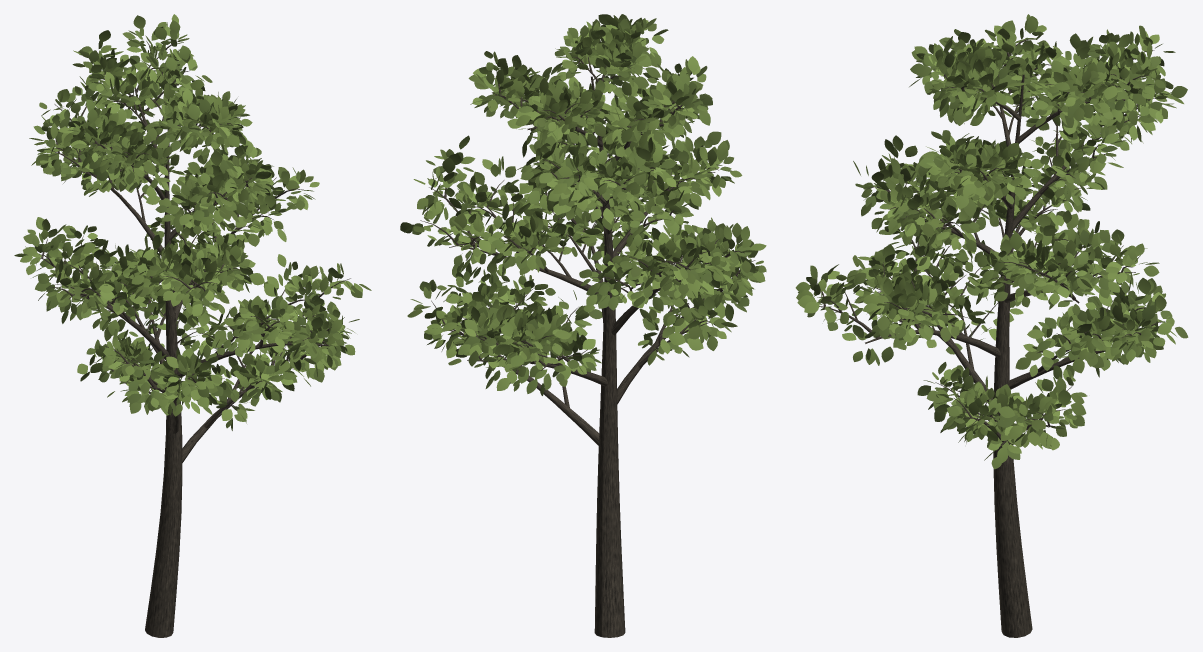
File: young_05_lod0.glb
3 views of the same model, side by side, from view 1: azimuth 30°, elevation 25°; view 2: azimuth 150°, elevation 25°; view 3: azimuth 270°, elevation 25° (orthographic). The views are drawn at different scales.
Parts seen in each view (by area): view 1: individual_folded_leaves, trunk_branches; view 2: individual_folded_leaves, trunk_branches; view 3: individual_folded_leaves, trunk_branches.
Boxes of the visible parts, x1,y1,x2,y2 form: individual_folded_leaves: (14, 14, 371, 430); trunk_branches: (39, 41, 350, 637); individual_folded_leaves: (400, 14, 766, 395); trunk_branches: (420, 38, 755, 637); individual_folded_leaves: (795, 14, 1188, 469); trunk_branches: (817, 39, 1165, 637).
Size of the model in its own units: 4.62 by 8.07 by 4.68.
Materials: 2 (1 with a texture image).
